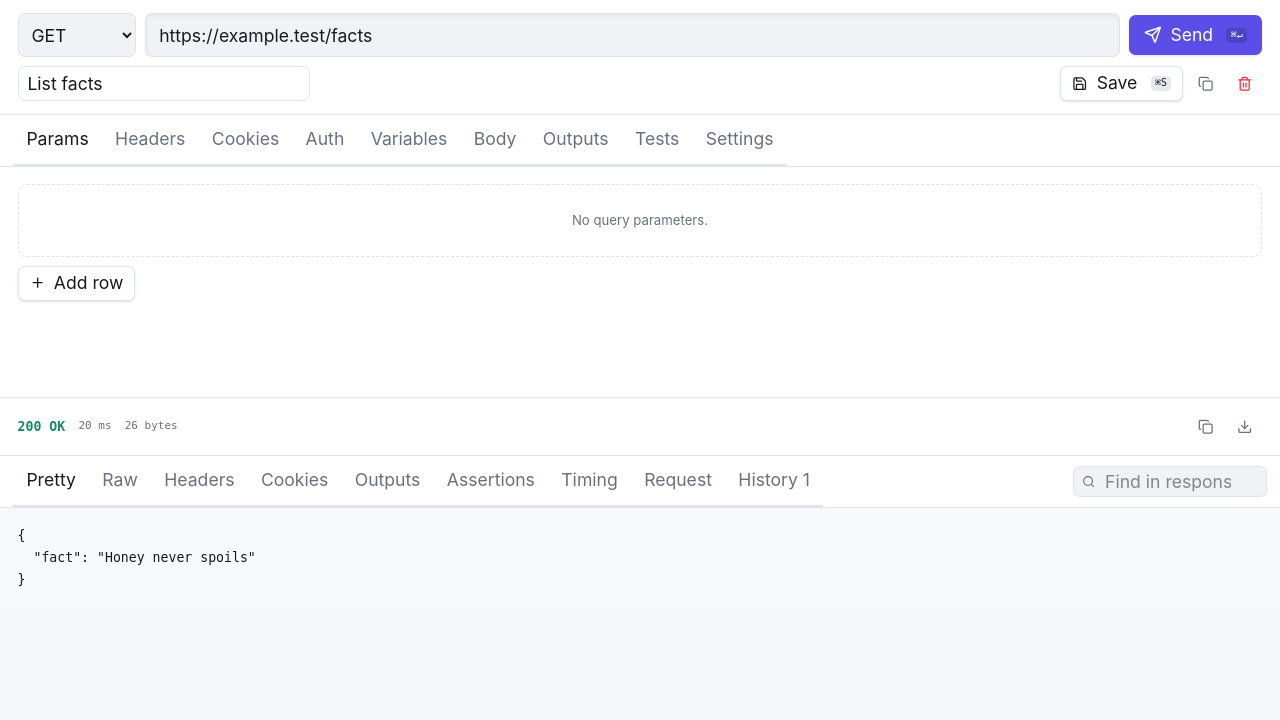
Test: RequestEditor › loads, marks edits unsaved, and saves the draft
The width and height of the screenshot is (1280, 720).
Expected: the field named "Request URL" holds "https://example.test/facts", 145,13 -> 1120,57
Replace the text in the field named "Request name" with "Updated facts" at (164, 84), box 18,66 -> 310,101
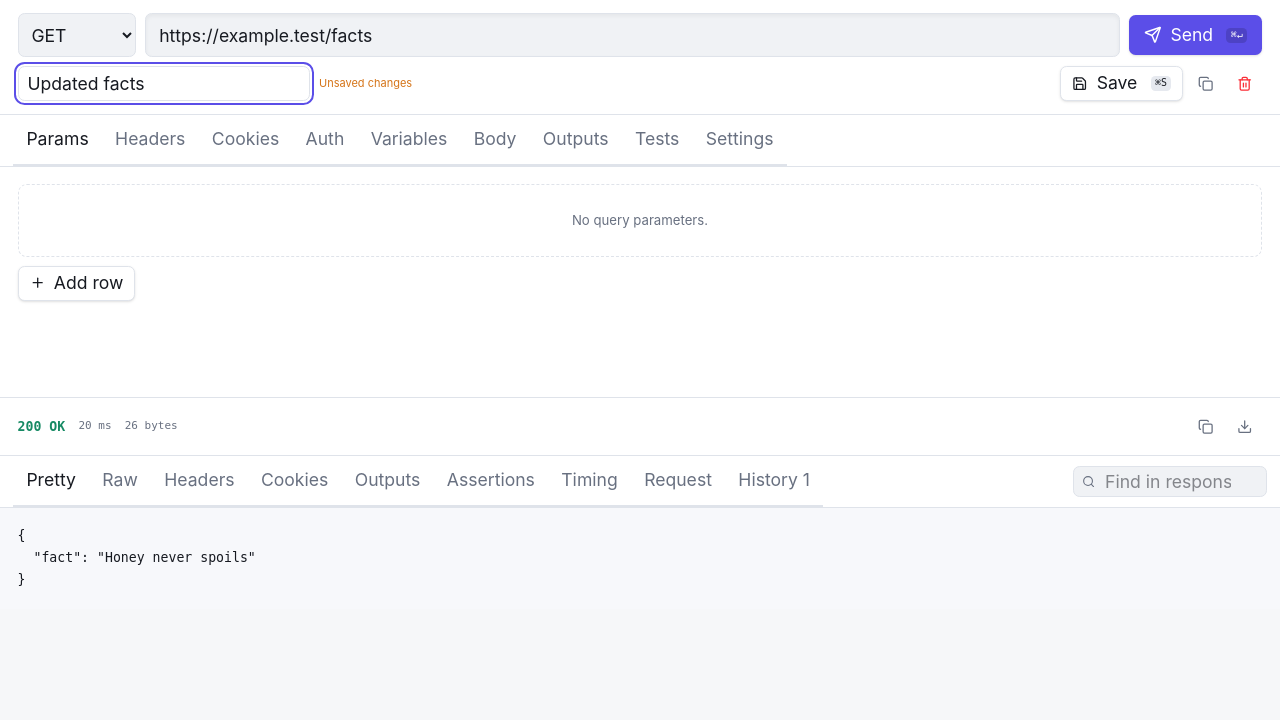
Now the text "Unsaved changes" is shown, box 319,75 -> 412,92
Click the button "Save ⌘S" at (1122, 84), box 1060,66 -> 1183,101
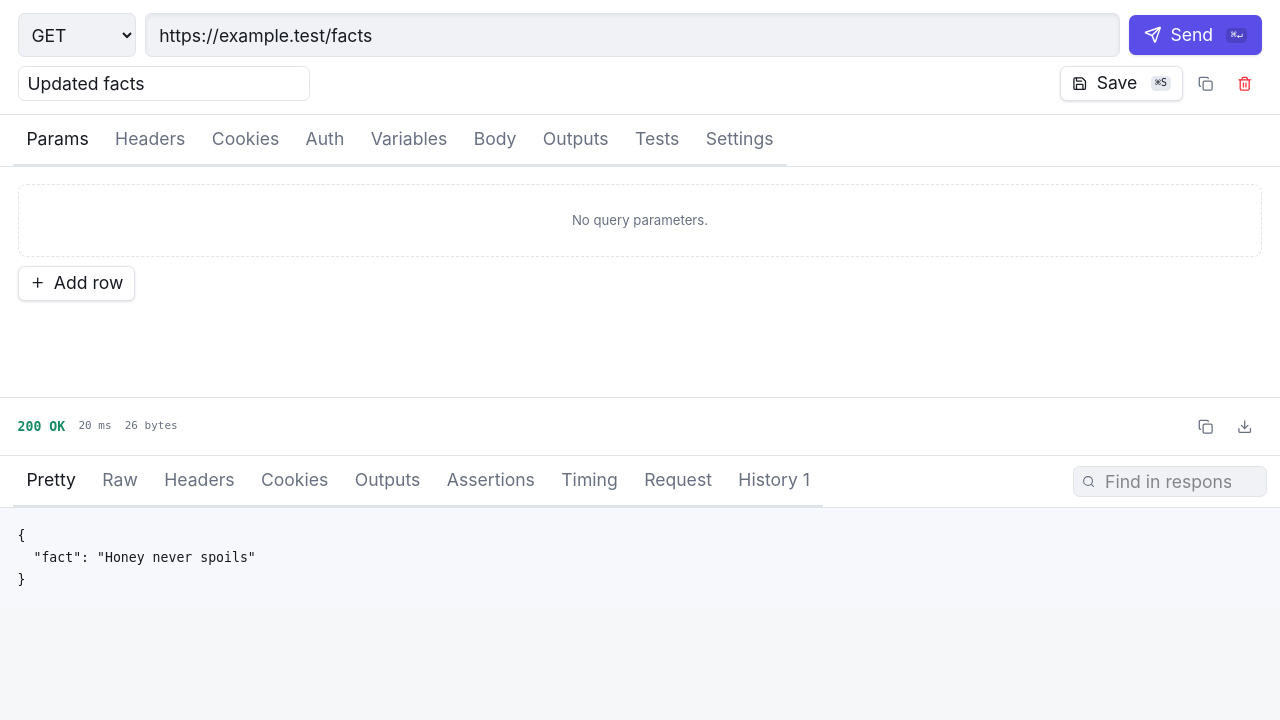
Now the text "Unsaved changes" is gone
